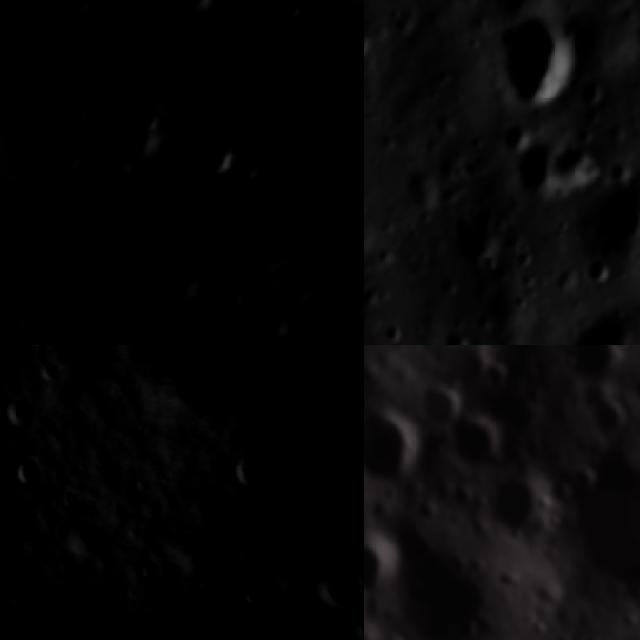crater: (561, 459, 640, 588), (224, 358, 335, 449), (492, 12, 586, 114), (476, 469, 550, 549), (156, 345, 218, 417), (364, 408, 419, 488), (207, 611, 341, 640), (430, 345, 497, 401), (116, 102, 172, 164), (480, 390, 542, 445), (456, 213, 512, 268), (449, 420, 506, 474), (546, 138, 600, 194), (598, 185, 640, 256), (571, 392, 627, 443), (364, 536, 407, 602), (192, 136, 247, 187), (157, 258, 208, 310), (559, 345, 622, 384), (274, 554, 324, 603), (418, 386, 469, 432), (319, 556, 364, 608), (49, 136, 90, 184), (228, 449, 271, 490), (0, 388, 39, 428), (580, 249, 616, 286), (6, 452, 44, 487), (467, 200, 506, 233), (163, 0, 212, 23), (489, 0, 543, 18), (435, 267, 464, 299), (515, 242, 541, 267), (444, 325, 475, 345), (384, 320, 409, 344), (364, 25, 378, 66), (364, 281, 381, 308)
